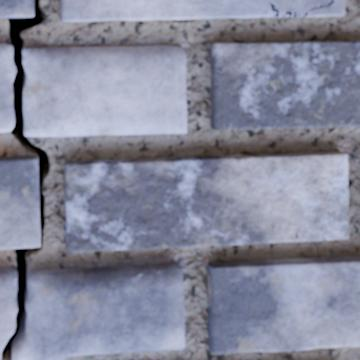brick: (65, 152, 348, 251), (208, 256, 359, 353), (210, 41, 359, 129), (61, 0, 329, 20), (0, 156, 39, 248), (308, 0, 343, 16), (0, 0, 32, 16)
broken_brick: (13, 262, 185, 359), (24, 45, 187, 137), (0, 266, 15, 349), (0, 42, 13, 132)
crack: (0, 0, 51, 359), (268, 0, 334, 18)
